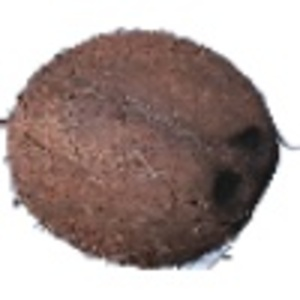coco: (1, 30, 300, 271)
